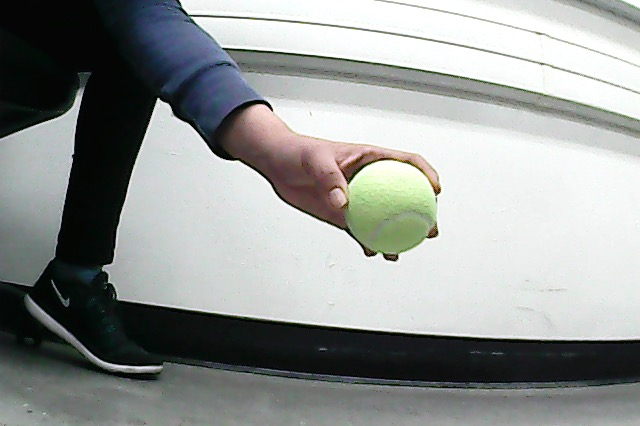ball: (340, 155, 442, 260)
